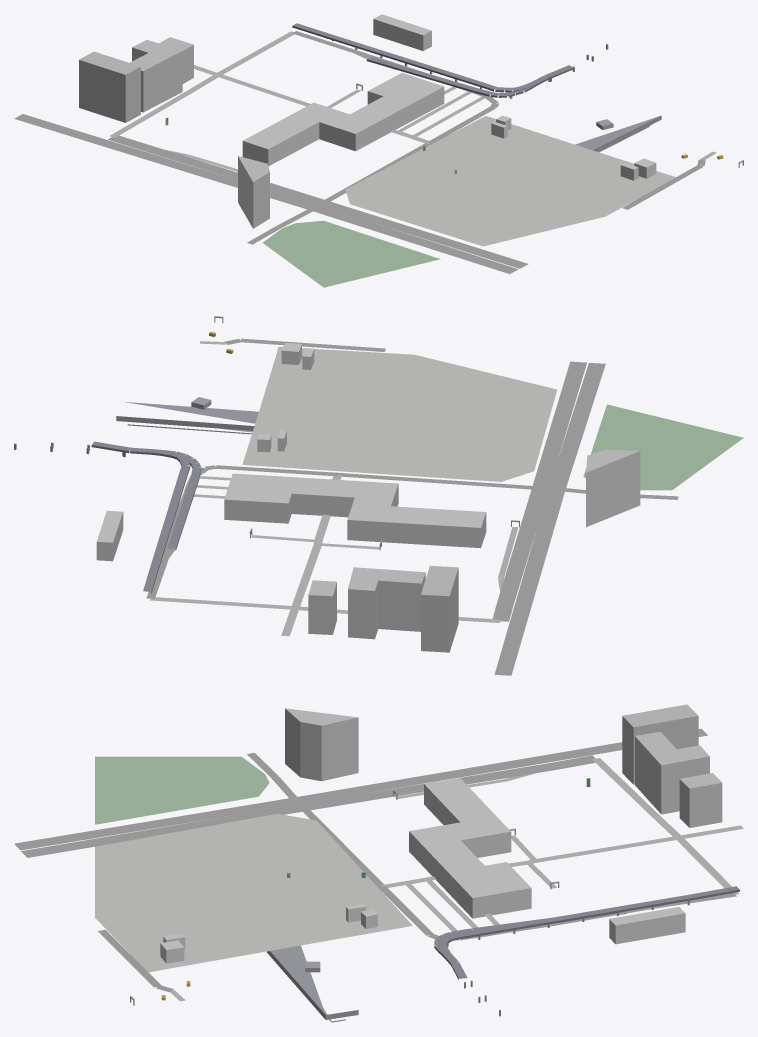
3 renders of one model, top to bottom at view 1: azimuth 30°, elevation 25°; view 2: azimuth 150°, elevation 25°; view 3: azimuth 270°, elevation 25°, orthographic. The views are drawn at different scales.
Bounding box in the file's own units: 561 × 64.07 × 584.
